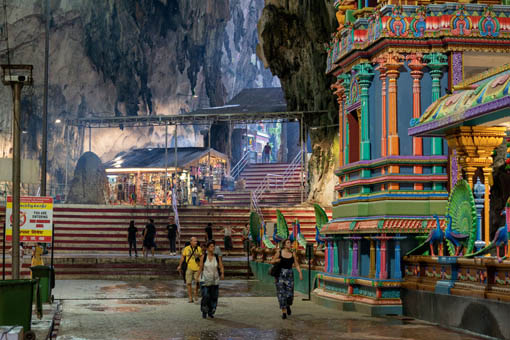Hindu Temple: (325, 1, 510, 283)
